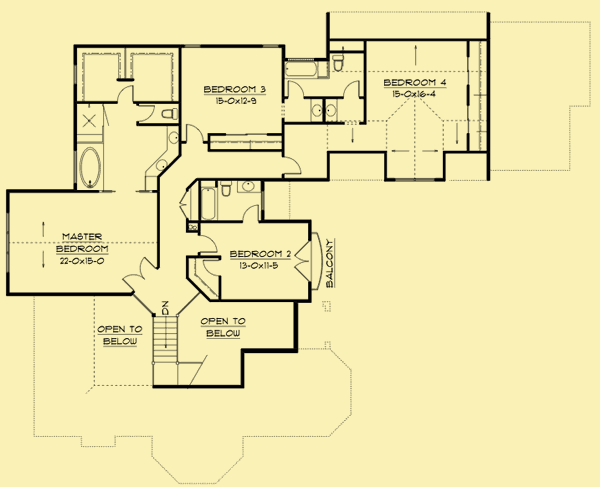door: (120, 254, 156, 296), (293, 242, 310, 281), (240, 204, 262, 227), (196, 233, 219, 255), (183, 122, 205, 144), (114, 83, 136, 104), (283, 154, 302, 176), (341, 79, 361, 98), (135, 104, 157, 121), (202, 258, 220, 278), (287, 79, 306, 97)
large_sink: (218, 179, 235, 199), (330, 51, 345, 73), (158, 106, 178, 122)
small_sink: (145, 151, 175, 179), (323, 98, 339, 124), (235, 181, 261, 195), (308, 98, 322, 122), (167, 126, 178, 153)
stairs: (152, 316, 181, 386)
tub: (75, 142, 102, 189), (283, 59, 320, 80), (199, 186, 219, 221)
